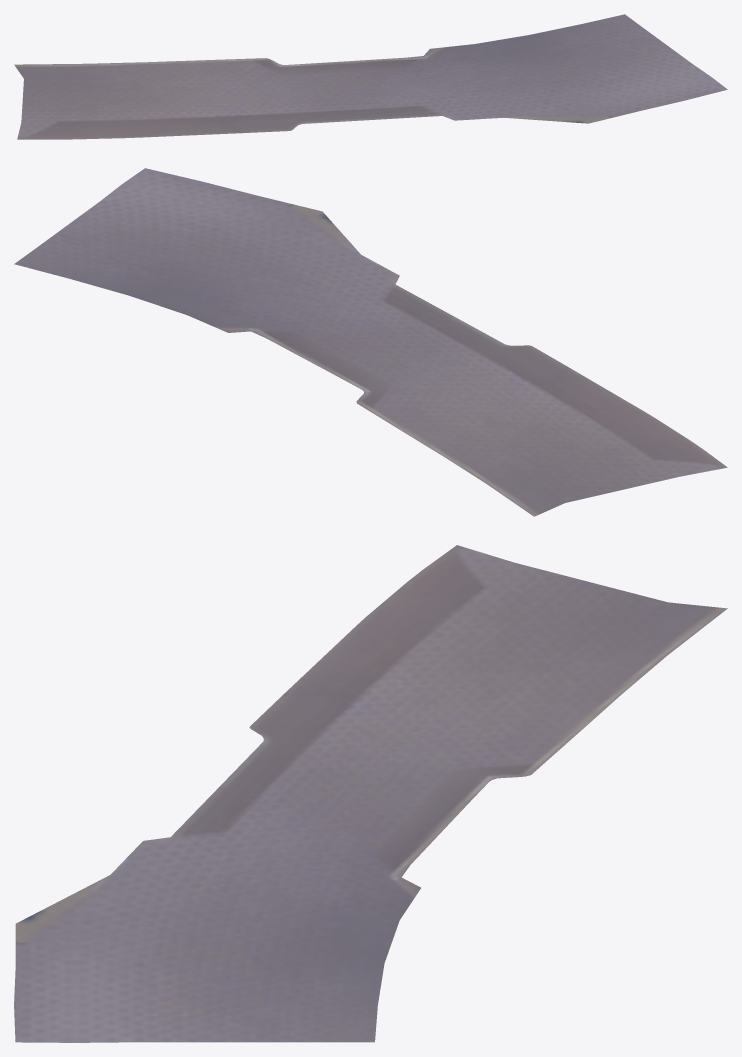
File: pref_fx_blueslowareaeffect_beta03_roada_02_lv0.fbx
The picture shows the model from 3 angles, top to bottom: view 1: azimuth 30°, elevation 25°; view 2: azimuth 150°, elevation 25°; view 3: azimuth 270°, elevation 25°; orthographic projection. The views are drawn at different scales.
Parts seen in each view (by area): view 1: color (1); view 2: color (1); view 3: color (1).
Boxes of the visible parts, box(x1,y1,x2,y2) form: color (1): box(14, 14, 727, 139); color (1): box(14, 168, 727, 516); color (1): box(14, 545, 727, 1042).
Size of the model in its own units: 28.28 by 5.69e-06 by 17.13.
